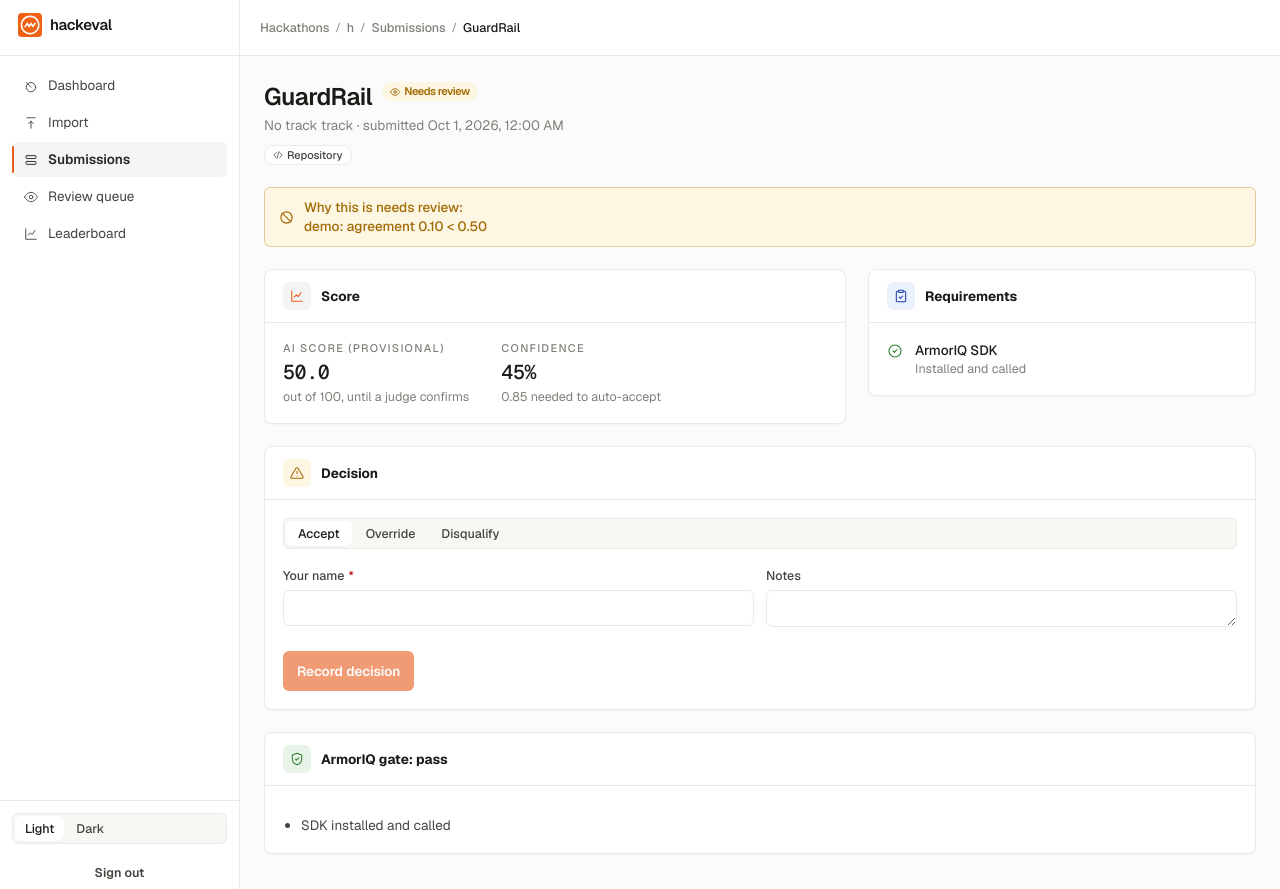
Test case: submission detail › an override sends only the changed criteria
Click the radio button labelled "Override" at (390, 534), box [354,521,427,546]
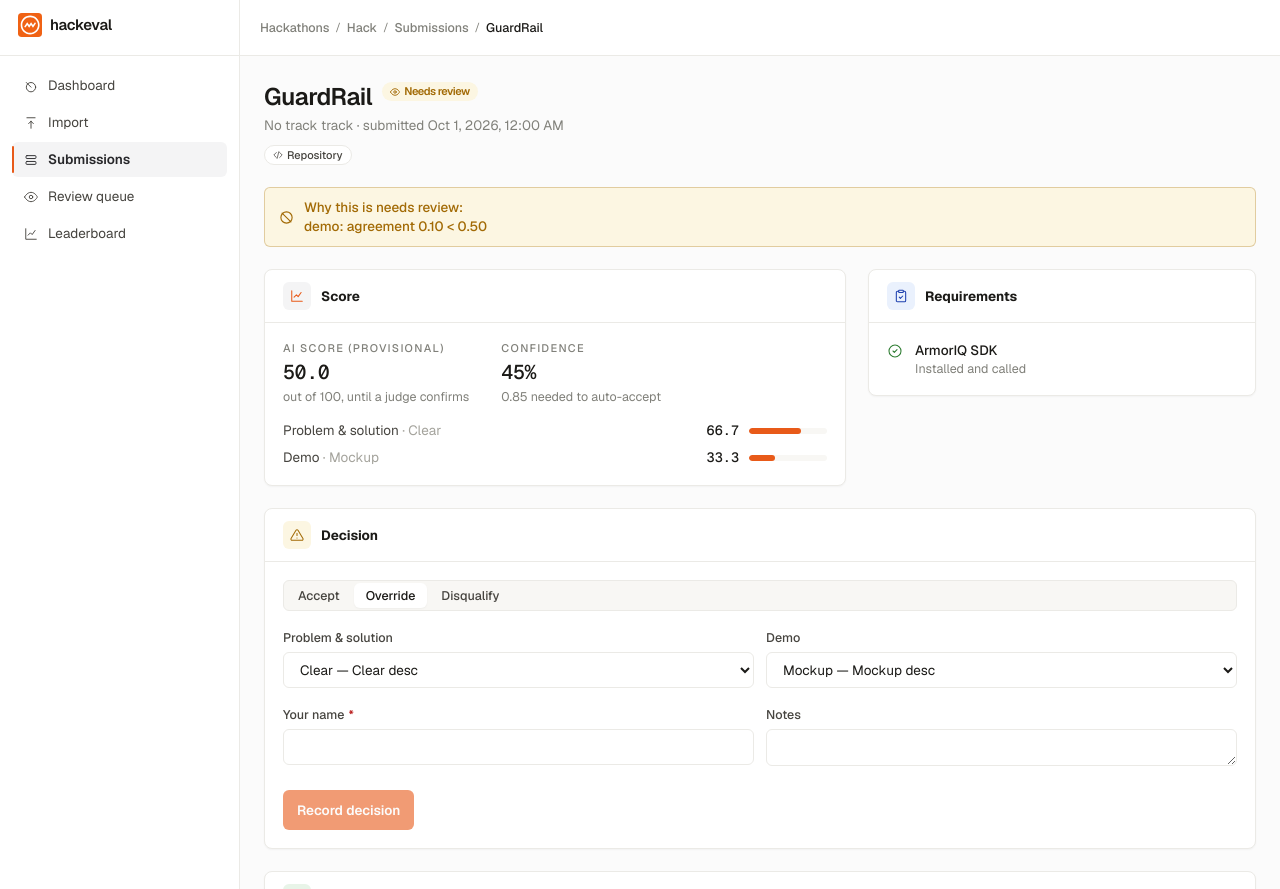
Select "Partial — Partial desc" in the dropdown labelled "Demo" at (1002, 670), box [766,652,1237,688]
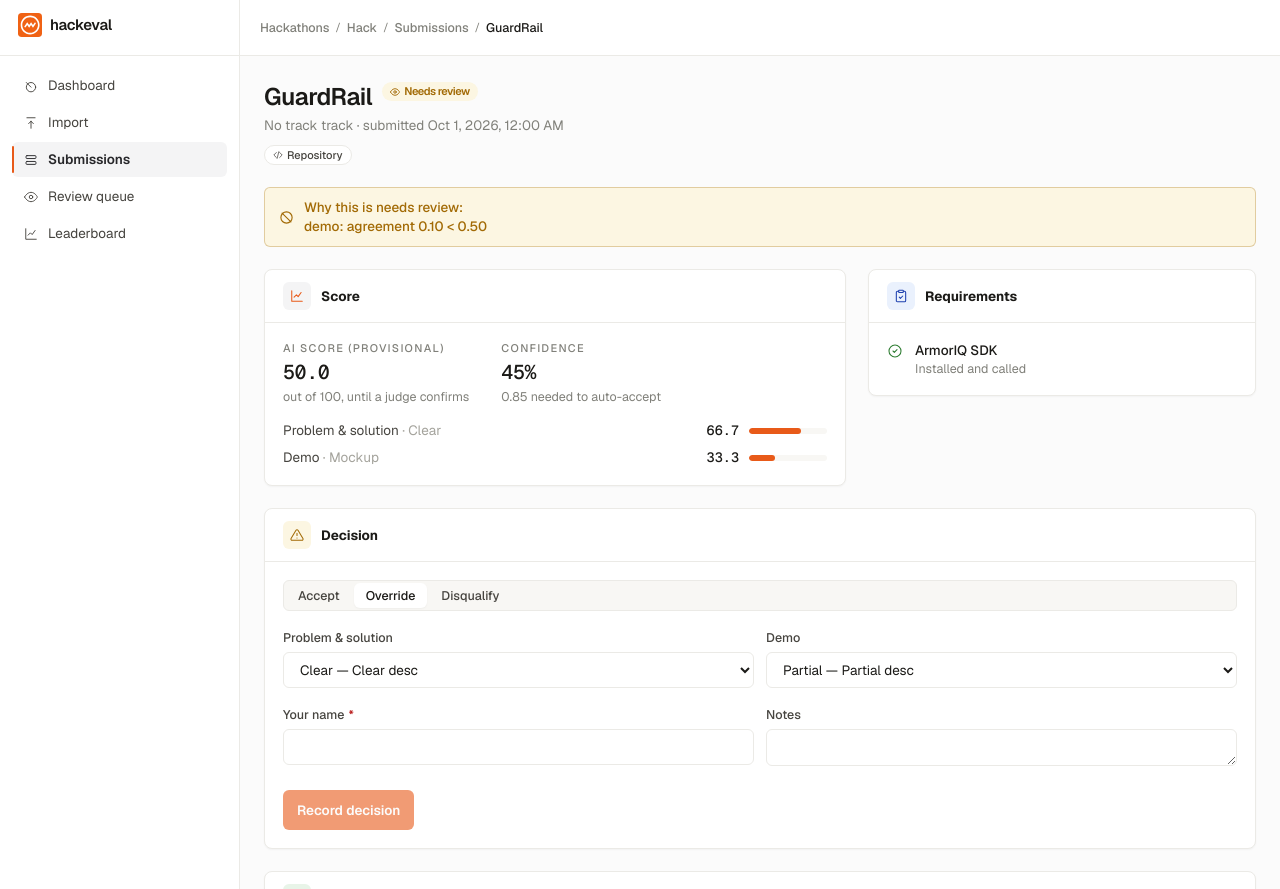
Type "ana" into the field labelled "Your name *" at (518, 747), box [283,729,754,765]
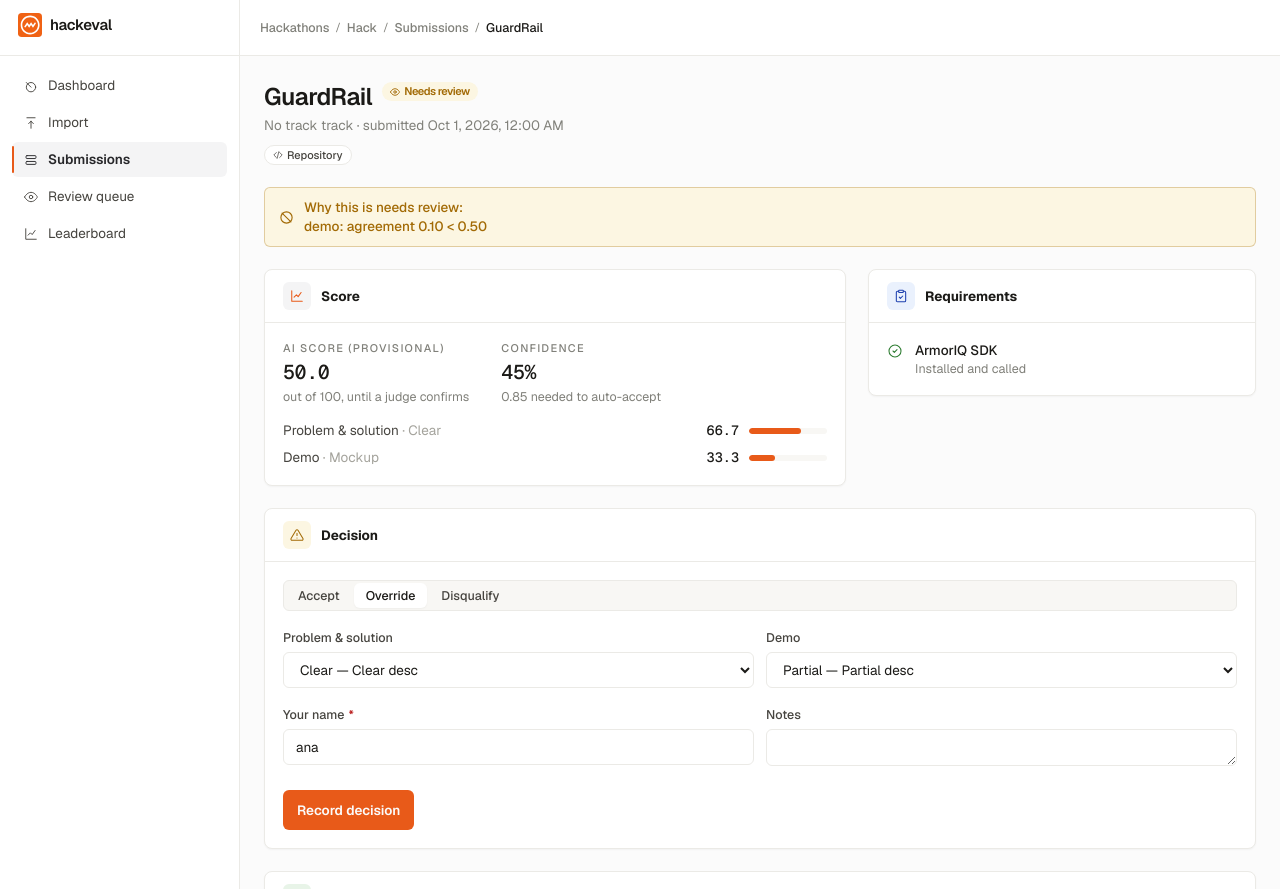
Click the button "Record decision" at (349, 810), box [283,790,414,830]
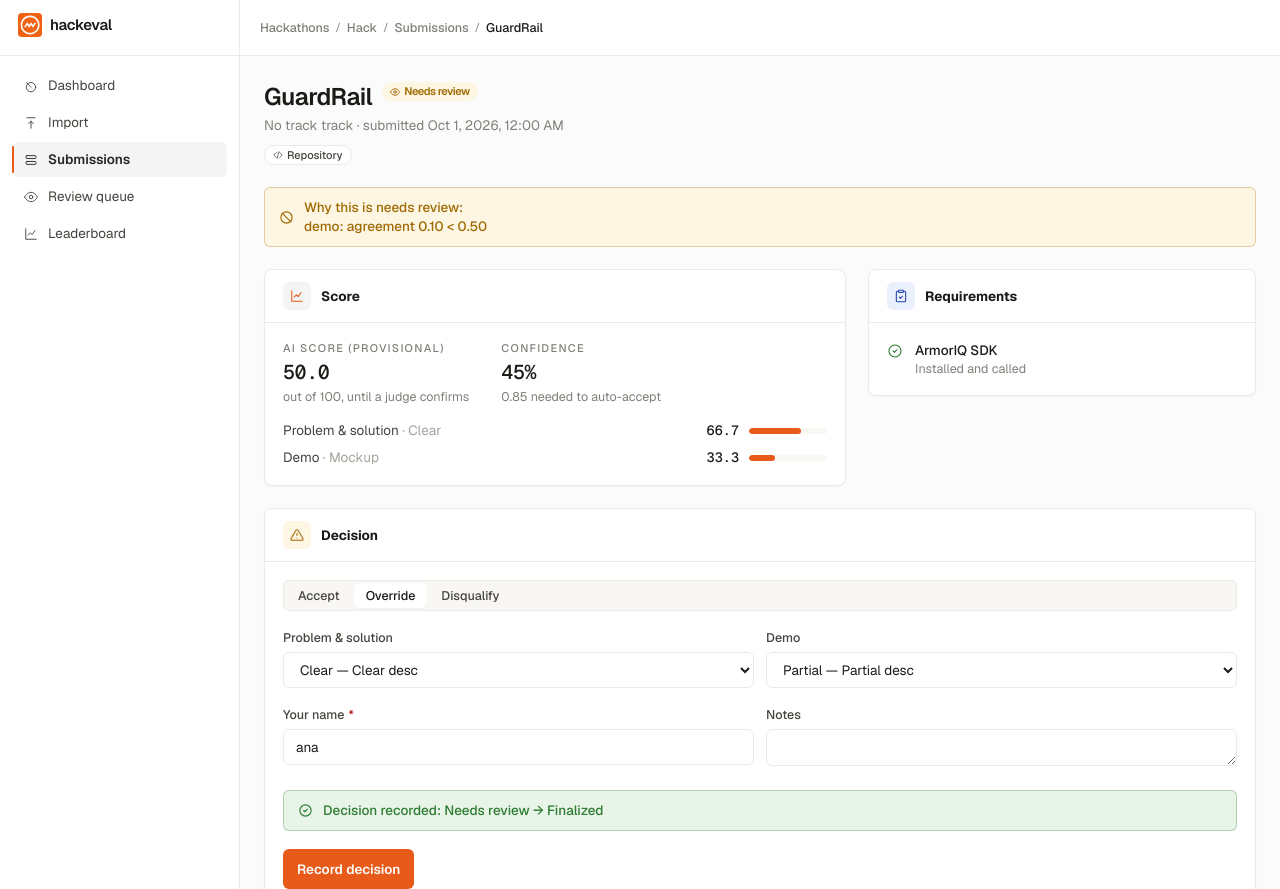
Check: the text "Decision recorded: Needs review → Finalized" is shown, box [323,801,604,819]
